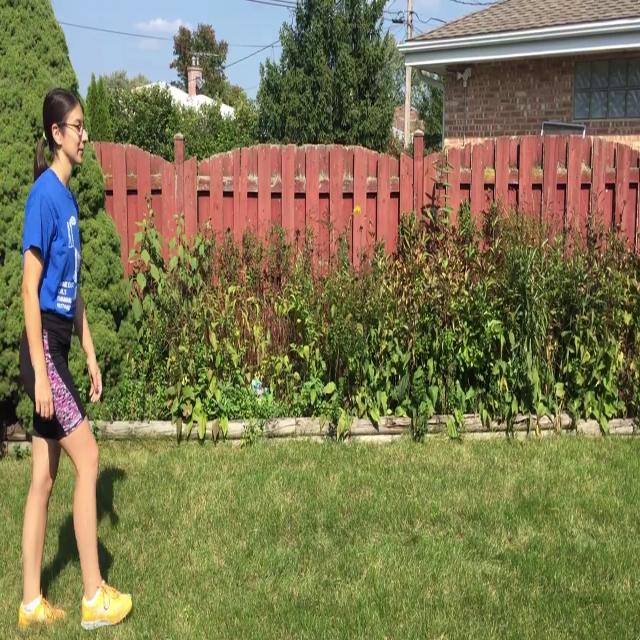normal: (14, 82, 148, 636)
